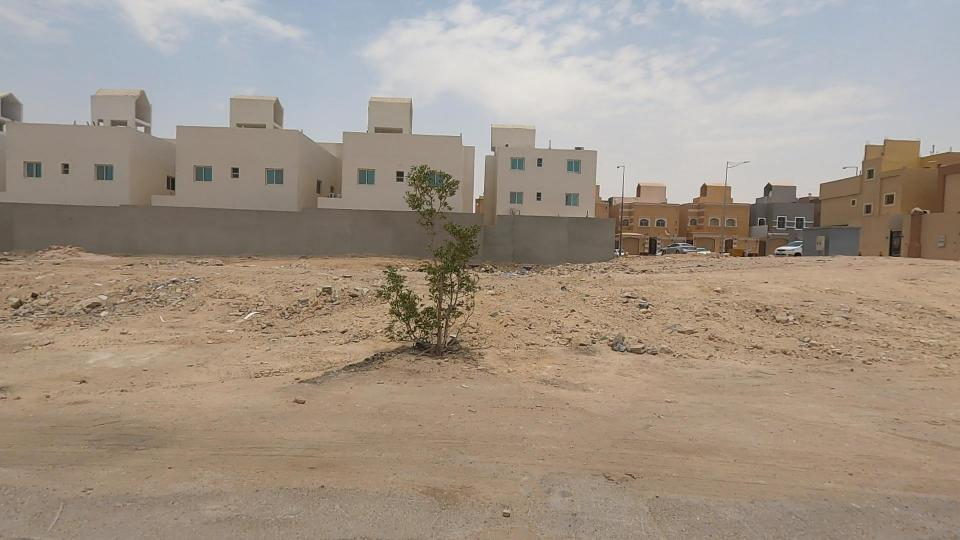GARBAGE: (195, 281, 302, 352), (58, 263, 141, 349), (107, 262, 218, 326), (598, 281, 681, 332), (470, 250, 563, 295)
